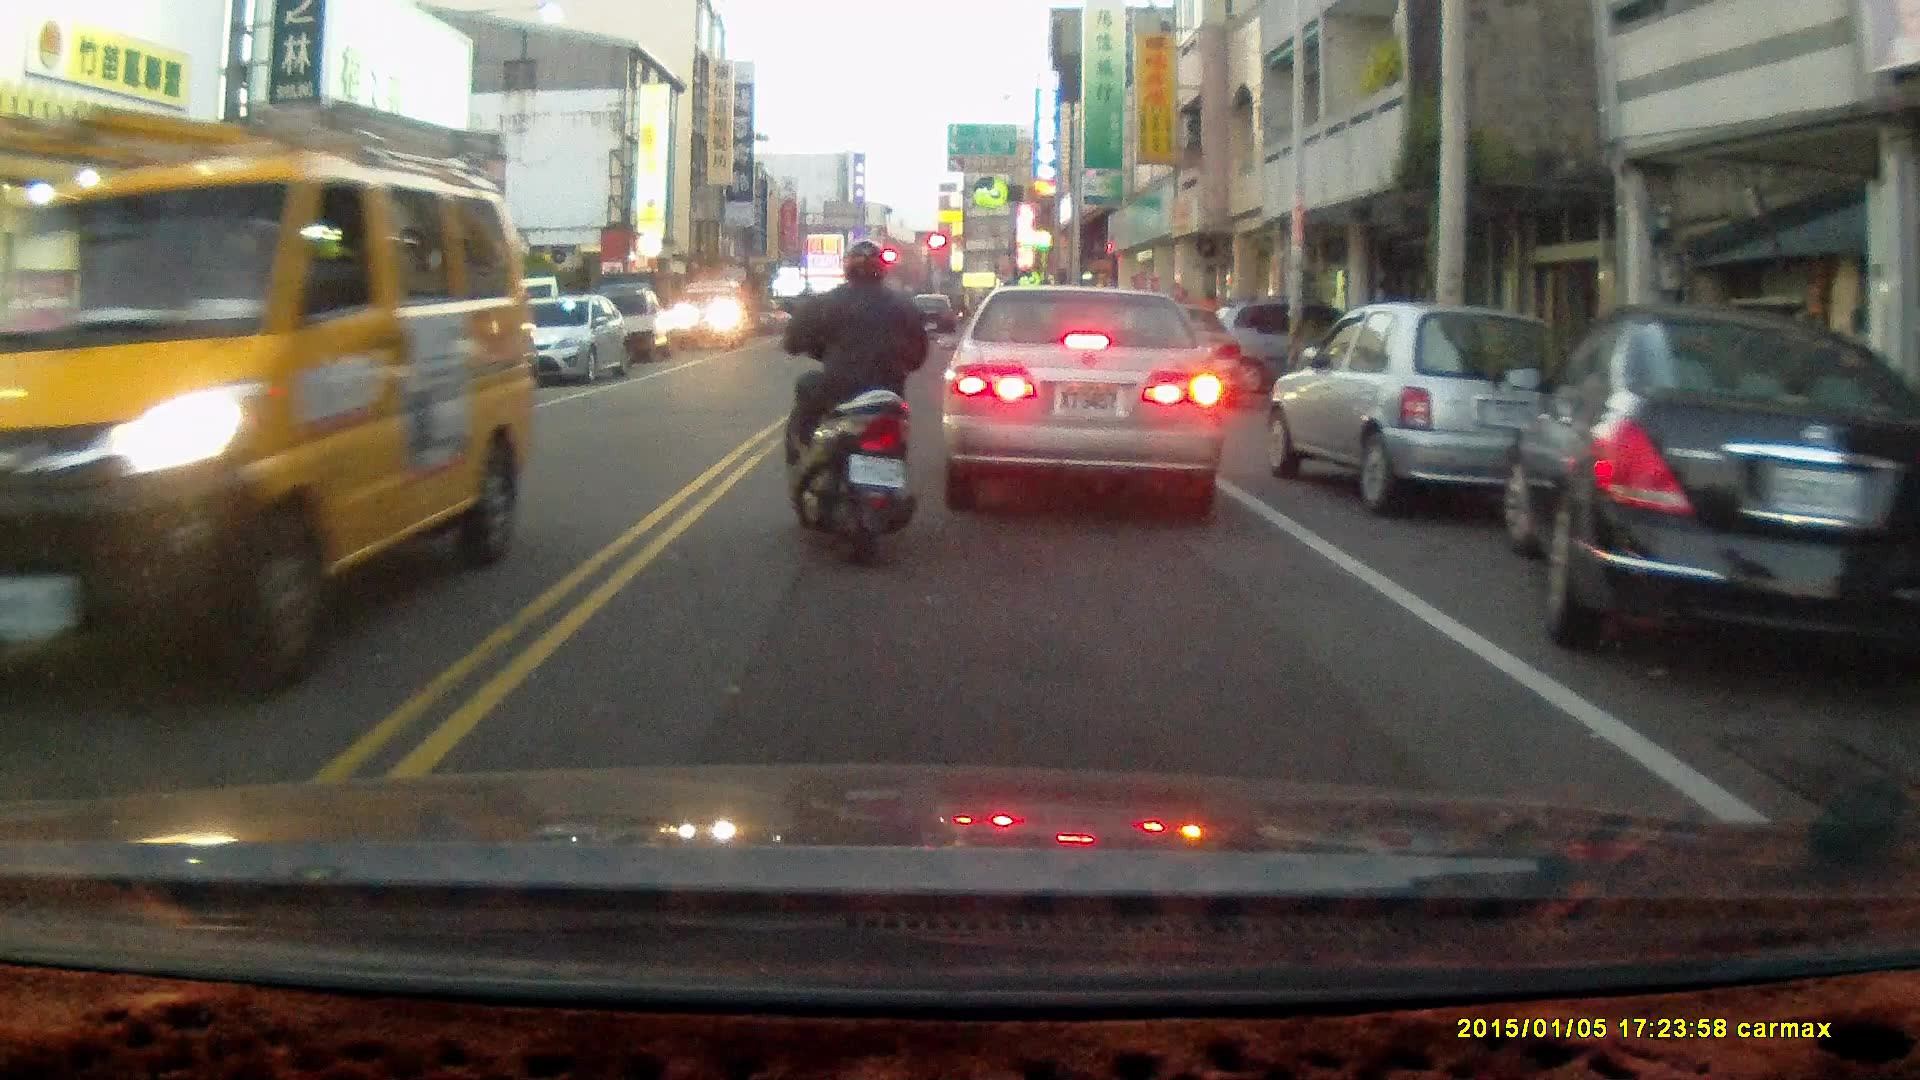rider: (783, 237, 932, 571)
vehicle: (15, 83, 539, 756), (1497, 304, 1920, 693), (1261, 301, 1565, 519), (939, 279, 1229, 509), (512, 292, 635, 385), (677, 271, 759, 341)
